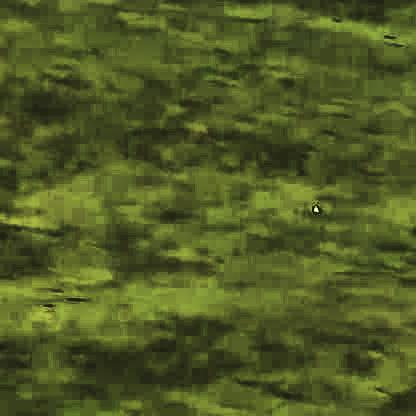golfball: (310, 205, 317, 210)
